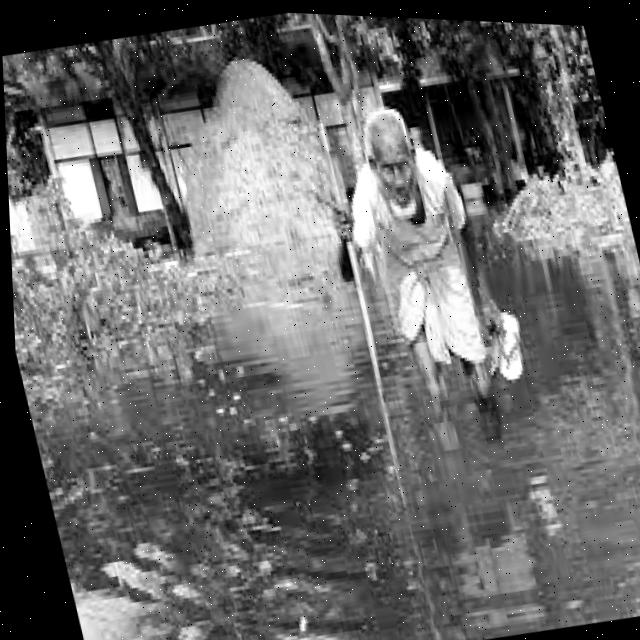civilian: (249, 56, 585, 511)
